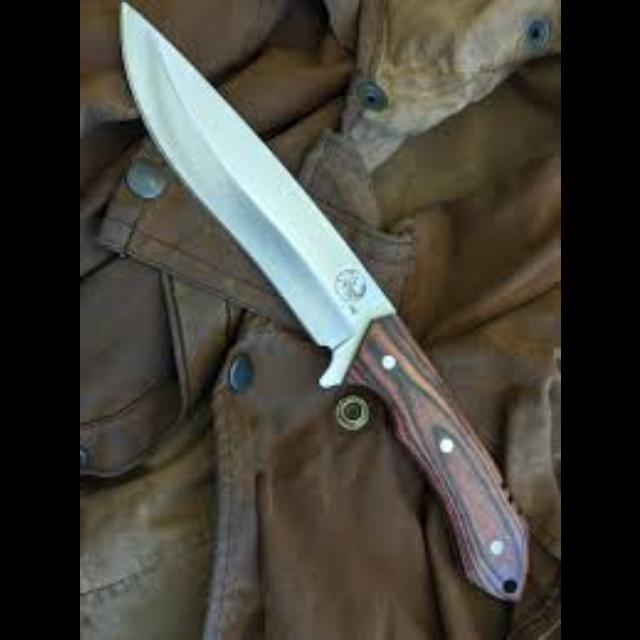Knife: (116, 0, 528, 602)
